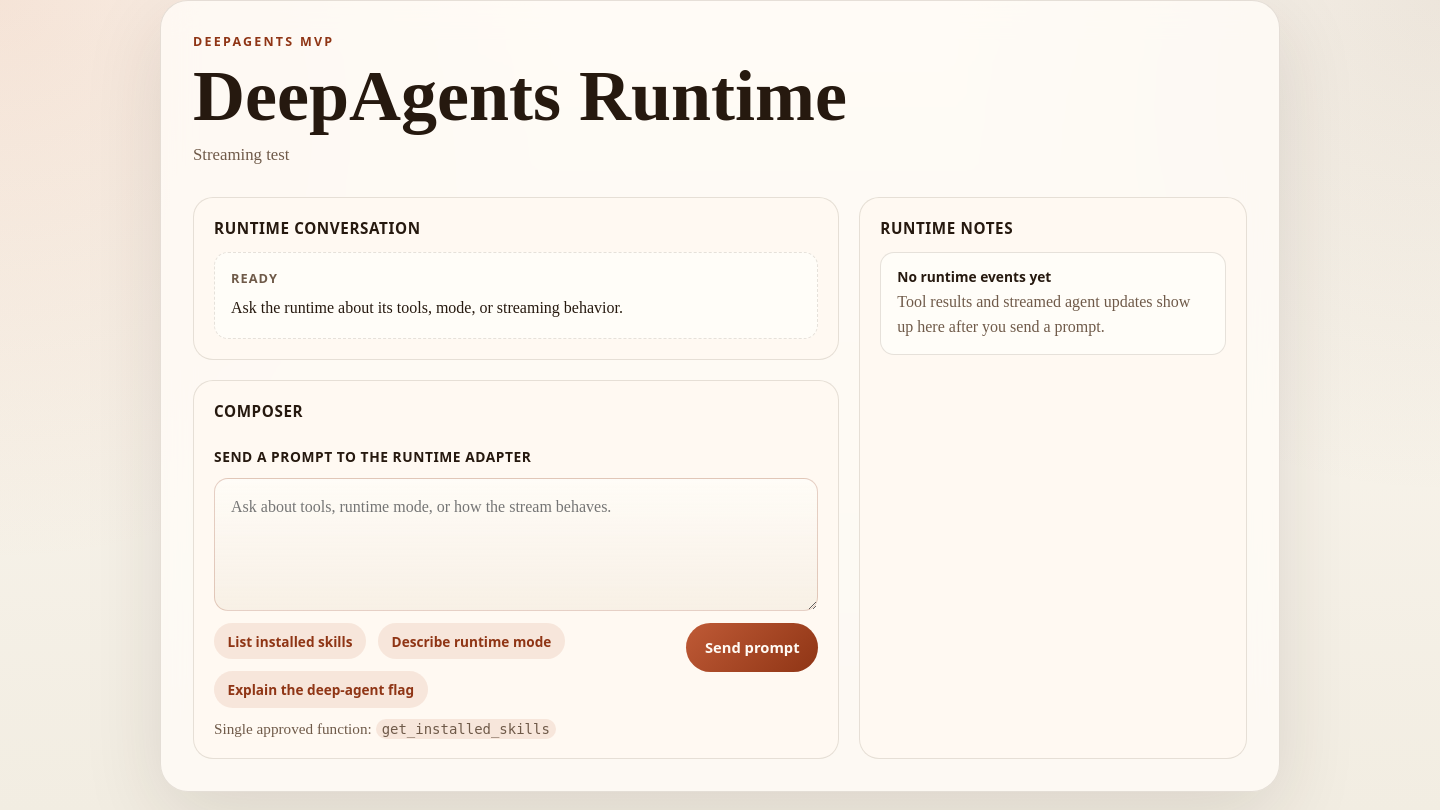
ChatShell › handles failed responses without a stream body
In the text box labelled "Send a prompt to the runtime adapter": (516, 544) [214, 478, 818, 611], type "List installed skills"
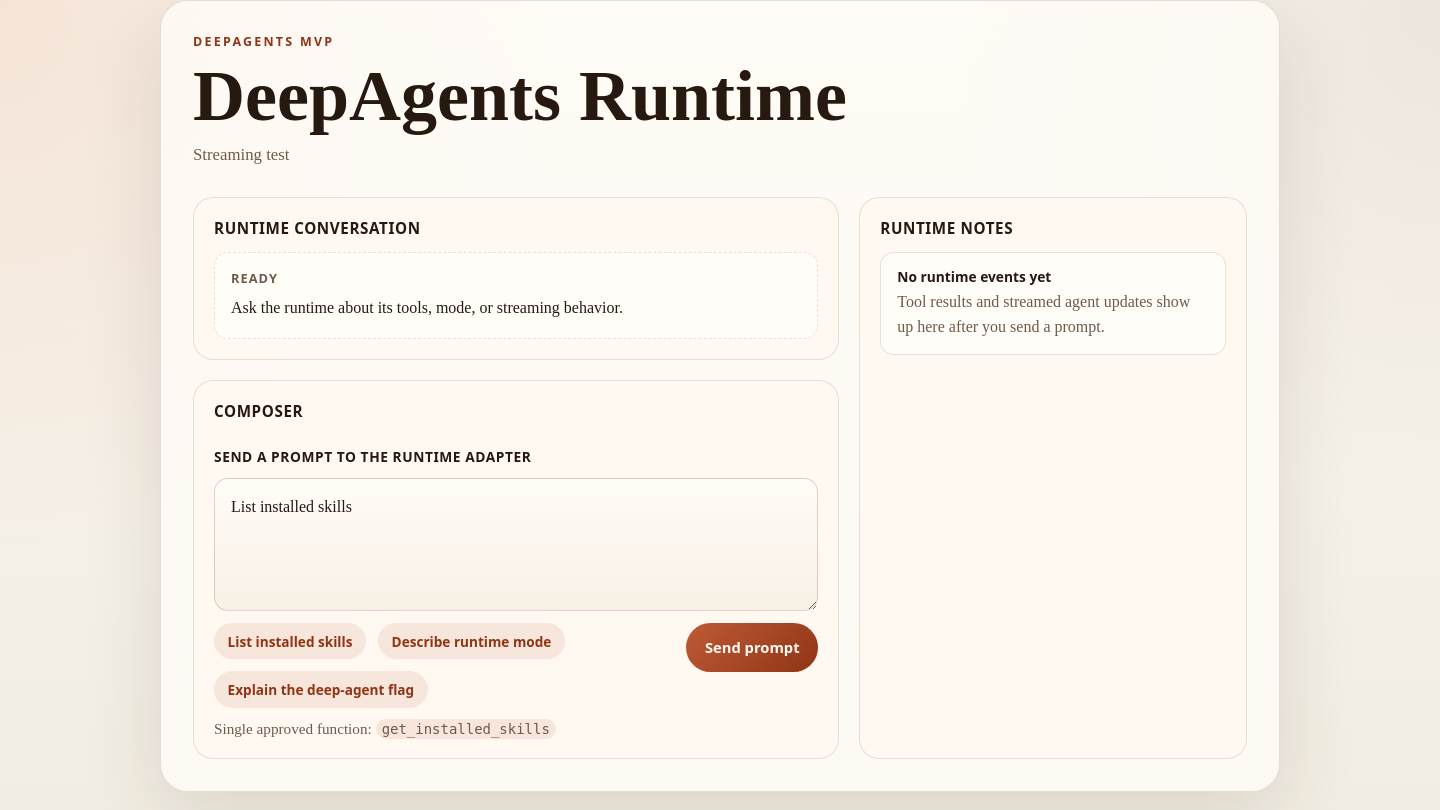
Click the button "Send prompt": (752, 647) [686, 623, 818, 672]
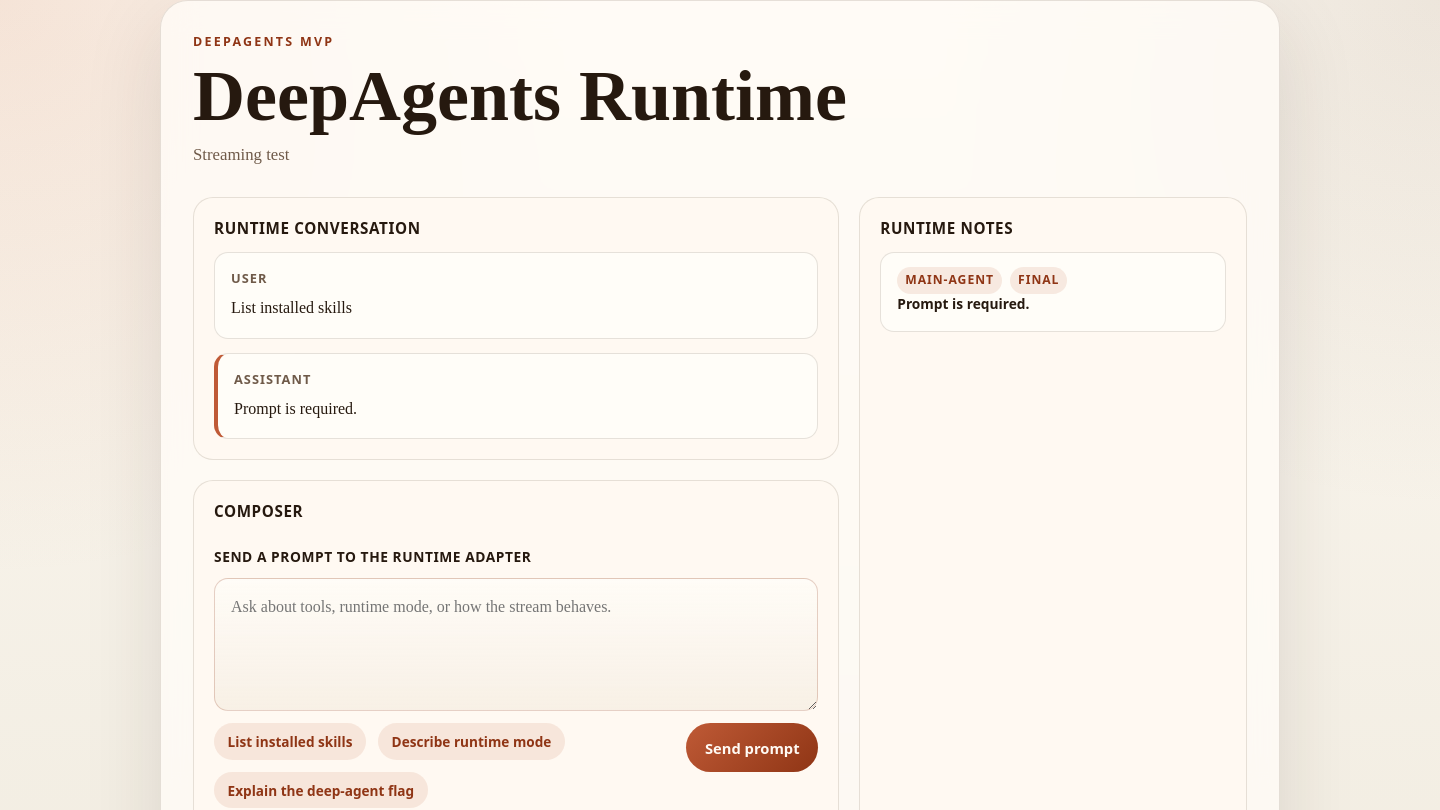
Check: the text "Prompt is required." is shown 2 times, box [234, 400, 357, 417]; [897, 294, 1030, 313]
Check: the text "final" is shown, box [1010, 267, 1067, 294]
